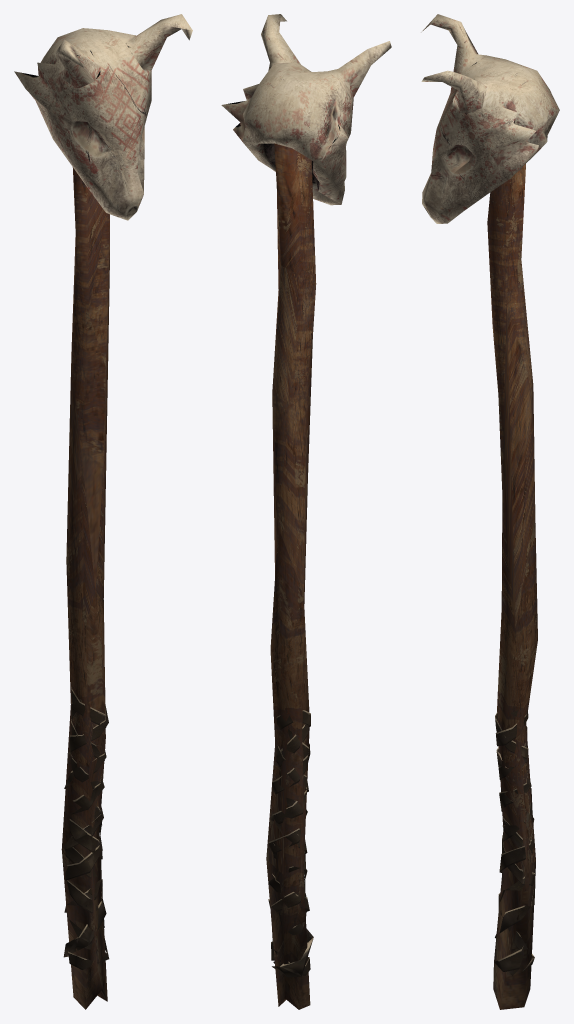
File: staff.fbx
3 renders of one model, left to right at view 1: azimuth 30°, elevation 25°; view 2: azimuth 150°, elevation 25°; view 3: azimuth 270°, elevation 25°, orthographic. The views are drawn at different scales.
Parts seen in each view (by area): view 1: Skull LP; view 2: Skull LP; view 3: Skull LP.
Part boxes in pixels (x1,y1,x2,y2): Skull LP: (14, 14, 192, 1009); Skull LP: (221, 14, 391, 1009); Skull LP: (421, 14, 559, 1009).
Bounding box in the file's own units: 26.84 × 204 × 26.77.
